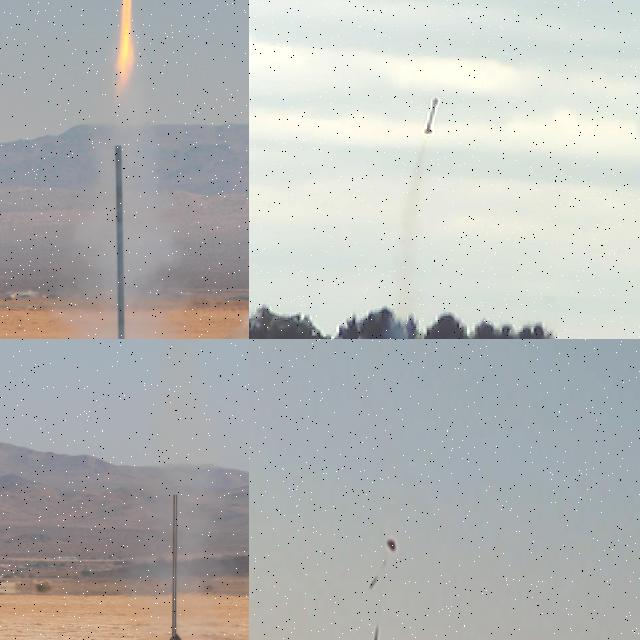Rocket: (422, 96, 440, 136), (373, 626, 378, 640)
